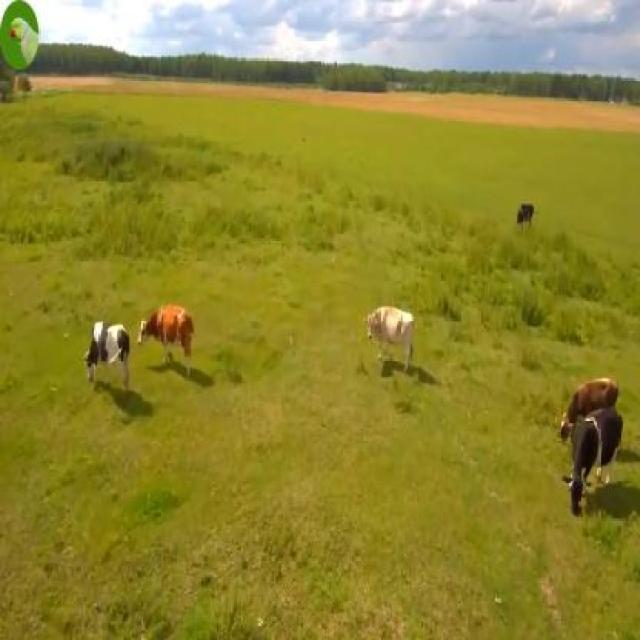Cow: (569, 404, 623, 516), (137, 301, 194, 377), (364, 306, 416, 371)
